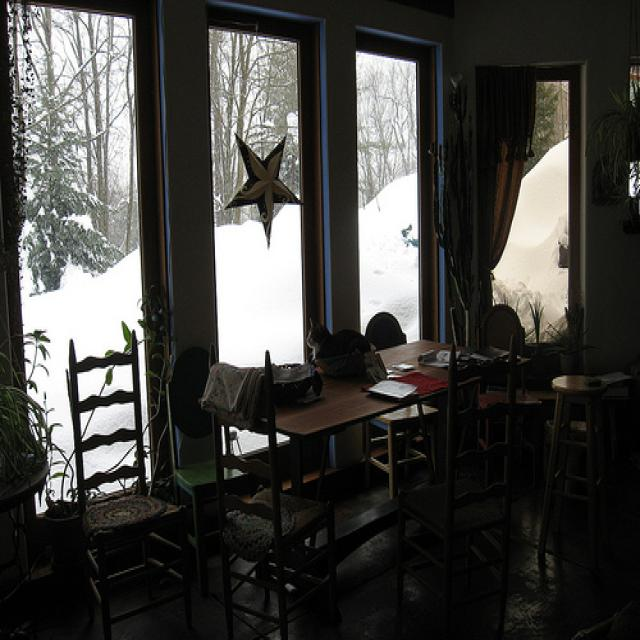Cat: (302, 287, 388, 376)
Table: (202, 330, 528, 610)
chair: (193, 328, 356, 640), (397, 314, 536, 640), (54, 326, 200, 632), (527, 363, 622, 590), (358, 297, 447, 515), (476, 286, 550, 515)
